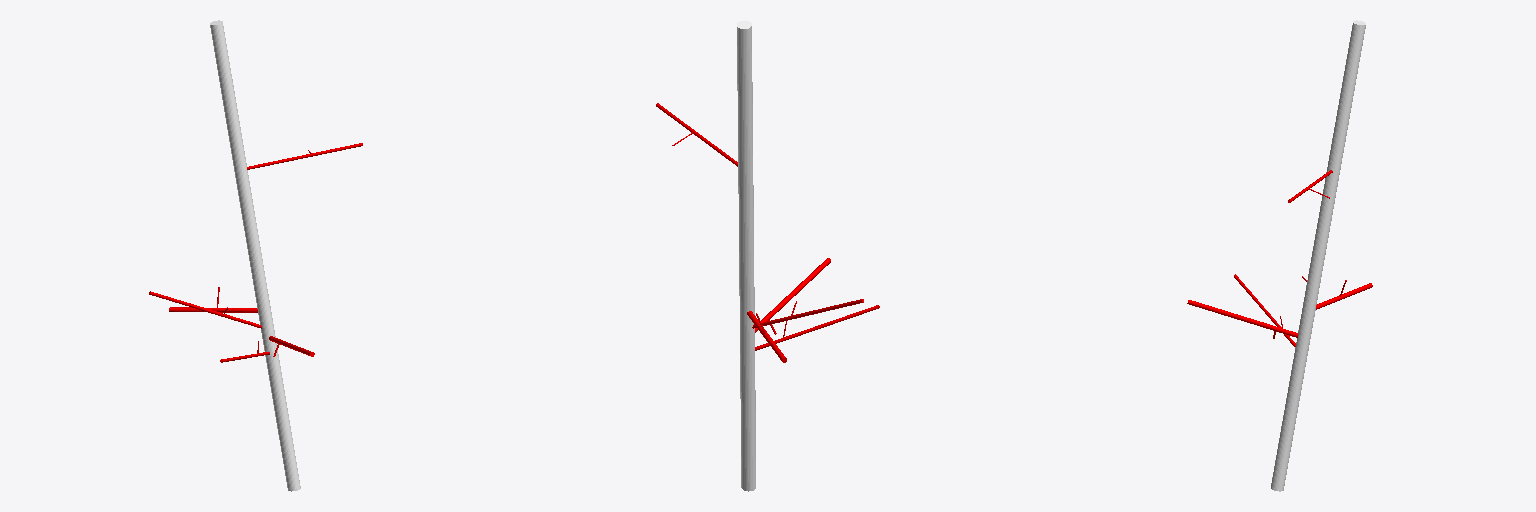
The robot description file, URDF, robot "tree_105.urdf":
<?xml version='1.0' encoding='UTF-8'?>
<robot name="tree_105.urdf">
  <link name="branch_0">
    <inertial>
      <origin xyz="0.0 0.0 0.0" rpy="0.0 -0.0 0.0"/>
      <mass value="0.1"/>
      <inertia ixx="0.001" ixy="0.0" ixz="0.0" iyy="0.001" iyz="0.0" izz="0.001"/>
    </inertial>
    <visual name="branch_0_visual">
      <geometry>
        <cylinder radius="0.12330336333629499" length="9.287110080358925"/>
      </geometry>
      <material name="branch_material"/>
      <origin xyz="-0.3974253591083863 0.7620170574037612 4.563330636644618" rpy="-4.163336342344337e-17 0.1861530665693452 2.0515301486761057"/>
    </visual>
    <collision name="branch_0_collision">
      <geometry>
        <cylinder radius="0.12330336333629499" length="9.287110080358925"/>
      </geometry>
      <origin xyz="-0.3974253591083863 0.7620170574037612 4.563330636644618" rpy="-4.163336342344337e-17 0.1861530665693452 2.0515301486761057"/>
    </collision>
  </link>
  <link name="branch_1">
    <inertial>
      <origin xyz="0.0 0.0 0.0" rpy="0.0 -0.0 0.0"/>
      <mass value="0.1"/>
      <inertia ixx="0.001" ixy="0.0" ixz="0.0" iyy="0.001" iyz="0.0" izz="0.001"/>
    </inertial>
    <visual name="branch_1_visual">
      <geometry>
        <cylinder radius="0.04493170074275382" length="2.2430644314632784"/>
      </geometry>
      <material name="semantic_material"/>
      <origin xyz="0.0 0.0 0.0" rpy="0.0 -0.0 0.0"/>
    </visual>
    <collision name="branch_1_collision">
      <geometry>
        <cylinder radius="0.04493170074275382" length="2.2430644314632784"/>
      </geometry>
      <origin xyz="0.0 0.0 0.0" rpy="0.0 -0.0 0.0"/>
    </collision>
  </link>
  <link name="branch_2">
    <inertial>
      <origin xyz="0.0 0.0 0.0" rpy="0.0 -0.0 0.0"/>
      <mass value="0.1"/>
      <inertia ixx="0.001" ixy="0.0" ixz="0.0" iyy="0.001" iyz="0.0" izz="0.001"/>
    </inertial>
    <visual name="branch_2_visual">
      <geometry>
        <cylinder radius="0.017131288159169415" length="0.307087645146055"/>
      </geometry>
      <material name="semantic_material"/>
      <origin xyz="0.0 0.0 0.0" rpy="0.0 -0.0 0.0"/>
    </visual>
    <collision name="branch_2_collision">
      <geometry>
        <cylinder radius="0.017131288159169415" length="0.307087645146055"/>
      </geometry>
      <origin xyz="0.0 0.0 0.0" rpy="0.0 -0.0 0.0"/>
    </collision>
  </link>
  <link name="branch_3">
    <inertial>
      <origin xyz="0.0 0.0 0.0" rpy="0.0 -0.0 0.0"/>
      <mass value="0.1"/>
      <inertia ixx="0.001" ixy="0.0" ixz="0.0" iyy="0.001" iyz="0.0" izz="0.001"/>
    </inertial>
    <visual name="branch_3_visual">
      <geometry>
        <cylinder radius="0.030309172153123176" length="2.321977712626343"/>
      </geometry>
      <material name="semantic_material"/>
      <origin xyz="0.0 0.0 0.0" rpy="0.0 -0.0 0.0"/>
    </visual>
    <collision name="branch_3_collision">
      <geometry>
        <cylinder radius="0.030309172153123176" length="2.321977712626343"/>
      </geometry>
      <origin xyz="0.0 0.0 0.0" rpy="0.0 -0.0 0.0"/>
    </collision>
  </link>
  <link name="branch_4">
    <inertial>
      <origin xyz="0.0 0.0 0.0" rpy="0.0 -0.0 0.0"/>
      <mass value="0.1"/>
      <inertia ixx="0.001" ixy="0.0" ixz="0.0" iyy="0.001" iyz="0.0" izz="0.001"/>
    </inertial>
    <visual name="branch_4_visual">
      <geometry>
        <cylinder radius="0.01079359036848254" length="0.4586166209511581"/>
      </geometry>
      <material name="semantic_material"/>
      <origin xyz="0.0 0.0 0.0" rpy="0.0 -0.0 0.0"/>
    </visual>
    <collision name="branch_4_collision">
      <geometry>
        <cylinder radius="0.01079359036848254" length="0.4586166209511581"/>
      </geometry>
      <origin xyz="0.0 0.0 0.0" rpy="0.0 -0.0 0.0"/>
    </collision>
  </link>
  <link name="branch_5">
    <inertial>
      <origin xyz="0.0 0.0 0.0" rpy="0.0 -0.0 0.0"/>
      <mass value="0.1"/>
      <inertia ixx="0.001" ixy="0.0" ixz="0.0" iyy="0.001" iyz="0.0" izz="0.001"/>
    </inertial>
    <visual name="branch_5_visual">
      <geometry>
        <cylinder radius="0.045376374279084315" length="1.78971046267268"/>
      </geometry>
      <material name="semantic_material"/>
      <origin xyz="0.0 0.0 0.0" rpy="0.0 -0.0 0.0"/>
    </visual>
    <collision name="branch_5_collision">
      <geometry>
        <cylinder radius="0.045376374279084315" length="1.78971046267268"/>
      </geometry>
      <origin xyz="0.0 0.0 0.0" rpy="0.0 -0.0 0.0"/>
    </collision>
  </link>
  <link name="branch_6">
    <inertial>
      <origin xyz="0.0 0.0 0.0" rpy="0.0 -0.0 0.0"/>
      <mass value="0.1"/>
      <inertia ixx="0.001" ixy="0.0" ixz="0.0" iyy="0.001" iyz="0.0" izz="0.001"/>
    </inertial>
    <visual name="branch_6_visual">
      <geometry>
        <cylinder radius="0.01462589868541408" length="0.4373886384173014"/>
      </geometry>
      <material name="semantic_material"/>
      <origin xyz="0.0 0.0 0.0" rpy="0.0 -0.0 0.0"/>
    </visual>
    <collision name="branch_6_collision">
      <geometry>
        <cylinder radius="0.01462589868541408" length="0.4373886384173014"/>
      </geometry>
      <origin xyz="0.0 0.0 0.0" rpy="0.0 -0.0 0.0"/>
    </collision>
  </link>
  <link name="branch_7">
    <inertial>
      <origin xyz="0.0 0.0 0.0" rpy="0.0 -0.0 0.0"/>
      <mass value="0.1"/>
      <inertia ixx="0.001" ixy="0.0" ixz="0.0" iyy="0.001" iyz="0.0" izz="0.001"/>
    </inertial>
    <visual name="branch_7_visual">
      <geometry>
        <cylinder radius="0.029837967051254365" length="2.2846325848518663"/>
      </geometry>
      <material name="semantic_material"/>
      <origin xyz="0.0 0.0 0.0" rpy="0.0 -0.0 0.0"/>
    </visual>
    <collision name="branch_7_collision">
      <geometry>
        <cylinder radius="0.029837967051254365" length="2.2846325848518663"/>
      </geometry>
      <origin xyz="0.0 0.0 0.0" rpy="0.0 -0.0 0.0"/>
    </collision>
  </link>
  <link name="branch_8">
    <inertial>
      <origin xyz="0.0 0.0 0.0" rpy="0.0 -0.0 0.0"/>
      <mass value="0.1"/>
      <inertia ixx="0.001" ixy="0.0" ixz="0.0" iyy="0.001" iyz="0.0" izz="0.001"/>
    </inertial>
    <visual name="branch_8_visual">
      <geometry>
        <cylinder radius="0.01026689232476843" length="0.3184301707444972"/>
      </geometry>
      <material name="semantic_material"/>
      <origin xyz="0.0 0.0 0.0" rpy="0.0 -0.0 0.0"/>
    </visual>
    <collision name="branch_8_collision">
      <geometry>
        <cylinder radius="0.01026689232476843" length="0.3184301707444972"/>
      </geometry>
      <origin xyz="0.0 0.0 0.0" rpy="0.0 -0.0 0.0"/>
    </collision>
  </link>
  <link name="branch_9">
    <inertial>
      <origin xyz="0.0 0.0 0.0" rpy="0.0 -0.0 0.0"/>
      <mass value="0.1"/>
      <inertia ixx="0.001" ixy="0.0" ixz="0.0" iyy="0.001" iyz="0.0" izz="0.001"/>
    </inertial>
    <visual name="branch_9_visual">
      <geometry>
        <cylinder radius="0.03216759805996193" length="2.642578081179009"/>
      </geometry>
      <material name="semantic_material"/>
      <origin xyz="0.0 0.0 0.0" rpy="0.0 -0.0 0.0"/>
    </visual>
    <collision name="branch_9_collision">
      <geometry>
        <cylinder radius="0.03216759805996193" length="2.642578081179009"/>
      </geometry>
      <origin xyz="0.0 0.0 0.0" rpy="0.0 -0.0 0.0"/>
    </collision>
  </link>
  <link name="branch_10">
    <inertial>
      <origin xyz="0.0 0.0 0.0" rpy="0.0 -0.0 0.0"/>
      <mass value="0.1"/>
      <inertia ixx="0.001" ixy="0.0" ixz="0.0" iyy="0.001" iyz="0.0" izz="0.001"/>
    </inertial>
    <visual name="branch_10_visual">
      <geometry>
        <cylinder radius="0.011712290099049847" length="0.28855583448660904"/>
      </geometry>
      <material name="semantic_material"/>
      <origin xyz="0.0 0.0 0.0" rpy="0.0 -0.0 0.0"/>
    </visual>
    <collision name="branch_10_collision">
      <geometry>
        <cylinder radius="0.011712290099049847" length="0.28855583448660904"/>
      </geometry>
      <origin xyz="0.0 0.0 0.0" rpy="0.0 -0.0 0.0"/>
    </collision>
  </link>
  <joint name="joint_0_1" type="fixed">
    <parent link="branch_0"/>
    <child link="branch_1"/>
    <axis xyz="1. 0. 0."/>
    <origin xyz="-0.41082120592307736 -0.5760938421847969 3.2605495890558065" rpy="0.37964231053681774 1.2842507640752467 -1.3179943939479202"/>
  </joint>
  <joint name="joint_0_3" type="fixed">
    <parent link="branch_0"/>
    <child link="branch_3"/>
    <axis xyz="1. 0. 0."/>
    <origin xyz="0.5273528524191516 0.6335498863347434 6.426741831627391" rpy="-0.6746124426664234 1.3754255080416118 -1.0495762157482058"/>
  </joint>
  <joint name="joint_0_5" type="fixed">
    <parent link="branch_0"/>
    <child link="branch_5"/>
    <axis xyz="1. 0. 0."/>
    <origin xyz="-0.9894291324265306 1.1568700673280643 3.433718719582658" rpy="2.375436218352164 1.4680149584521944 -1.4651901094676298"/>
  </joint>
  <joint name="joint_0_7" type="fixed">
    <parent link="branch_0"/>
    <child link="branch_7"/>
    <axis xyz="1. 0. 0."/>
    <origin xyz="-1.122421264122536 -0.1680409956395426 3.0403880632003895" rpy="0.5132182205702648 1.1911066959891525 -1.9920266182705575"/>
  </joint>
  <joint name="joint_0_9" type="fixed">
    <parent link="branch_0"/>
    <child link="branch_9"/>
    <axis xyz="1. 0. 0."/>
    <origin xyz="-1.4502227758486468 0.6742433336479203 3.7206614154498356" rpy="0.34981739899196784 1.0830922433180874 -2.8767907601424922"/>
  </joint>
  <joint name="joint_1_2" type="fixed">
    <parent link="branch_0"/>
    <child link="branch_2"/>
    <axis xyz="1. 0. 0."/>
    <origin xyz="-0.4037170640615302 -0.04651330966076718 2.9753207860874307" rpy="-2.692347469285361 0.194221419182099 1.3936959131870492"/>
  </joint>
  <joint name="joint_3_4" type="fixed">
    <parent link="branch_0"/>
    <child link="branch_4"/>
    <axis xyz="1. 0. 0."/>
    <origin xyz="0.7913895254185671 0.7691863635988282 6.395758039524923" rpy="1.8422734415383897 0.14542265683260563 2.8007858539766297"/>
  </joint>
  <joint name="joint_5_6" type="fixed">
    <parent link="branch_0"/>
    <child link="branch_6"/>
    <axis xyz="1. 0. 0."/>
    <origin xyz="-0.9334110775239824 1.2143576606543598 3.6373599880166867" rpy="-0.3750970789761982 0.0069785803071876155 -0.7283305063495715"/>
  </joint>
  <joint name="joint_7_8" type="fixed">
    <parent link="branch_0"/>
    <child link="branch_8"/>
    <axis xyz="1. 0. 0."/>
    <origin xyz="-0.7287196281462266 0.08629696242118849 3.0274098804311955" rpy="0.09865033576235514 -0.1688302009266444 0.55424043330258"/>
  </joint>
  <joint name="joint_9_10" type="fixed">
    <parent link="branch_0"/>
    <child link="branch_10"/>
    <axis xyz="1. 0. 0."/>
    <origin xyz="-1.1613357607903747 0.5460863933099837 3.688959169652063" rpy="0.6481433215113828 0.23519872395645613 -0.3156758725020763"/>
  </joint>
  <material name="branch_material">
    <color rgba="1. 1. 1. 1."/>
  </material>
  <material name="semantic_material">
    <color rgba="1. 0. 0. 1."/>
  </material>
</robot>

--- Render facts (derived) ---
Views: 3 orthographic renders of the robot side by side, from view 1: azimuth 30°, elevation 25°; view 2: azimuth 150°, elevation 25°; view 3: azimuth 270°, elevation 25°.
Model tree_105.urdf with 11 links and 10 joints (10 fixed), rooted at branch_0, posed all joints at 0.
Links seen in each view (by area): view 1: branch_0; view 2: branch_0; view 3: branch_0, branch_1.
Boxes of the visible links, box(x1,y1,x2,y2) form: branch_0: box(210, 20, 300, 491); branch_0: box(737, 20, 755, 491); branch_0: box(1271, 20, 1365, 491); branch_1: box(1187, 300, 1297, 337).
Size in the robot's own frame: 4.25 by 3.42 by 9.17 metres.
Geometry: primitives only (box / cylinder / sphere), no mesh files.
